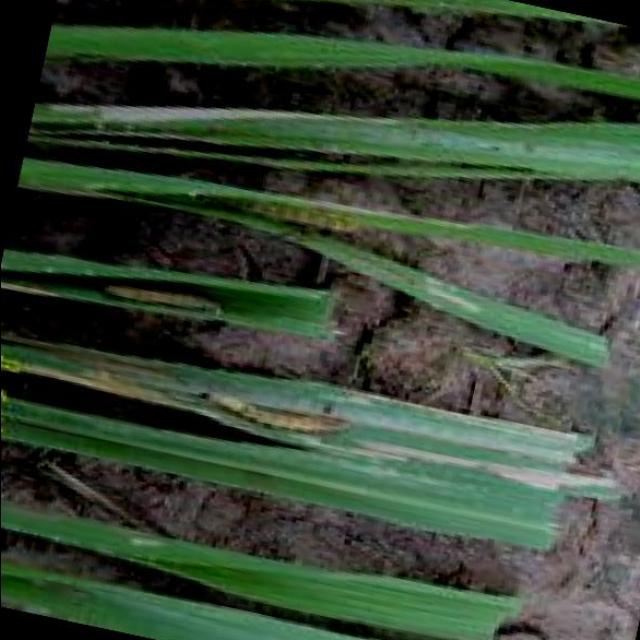leaf folder: (197, 195, 380, 235), (206, 393, 348, 435), (94, 285, 220, 313)
